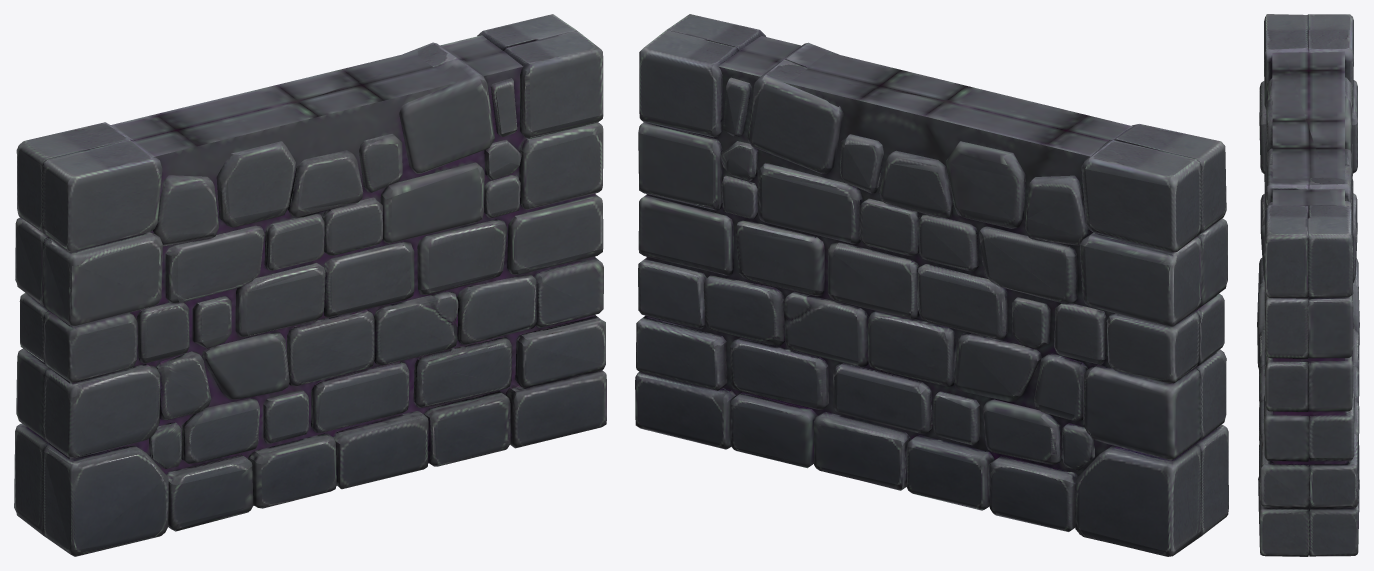
Rendered from rock_block_match_door_v2.glb.
3 views of the same model, side by side, from view 1: azimuth 30°, elevation 25°; view 2: azimuth 150°, elevation 25°; view 3: azimuth 270°, elevation 25° (orthographic). The views are drawn at different scales.
Size of the model in its own units: 1 by 0.6758 by 0.1948.
1 material, 1 textured.
